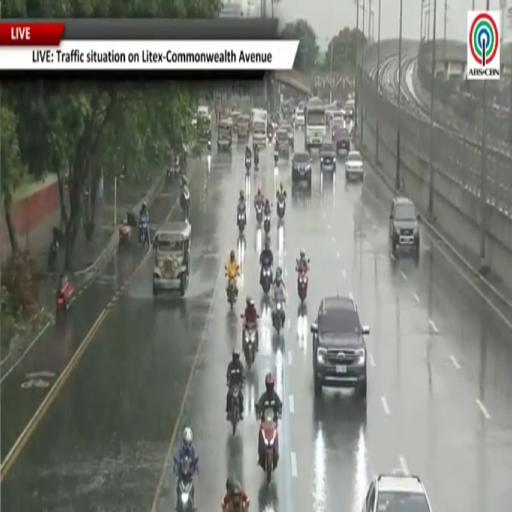car: (310, 296, 369, 399), (363, 472, 432, 511), (389, 197, 420, 258), (292, 152, 311, 186), (345, 151, 363, 181), (320, 142, 336, 172), (333, 127, 350, 155), (331, 119, 345, 140)
jeepney: (153, 221, 191, 296), (197, 106, 211, 141), (217, 120, 233, 150), (276, 127, 289, 158), (238, 115, 250, 141), (230, 110, 240, 133)
motorcycle: (259, 408, 278, 483), (177, 457, 194, 511), (56, 278, 75, 316), (243, 324, 257, 369), (230, 384, 240, 436), (273, 301, 285, 334), (298, 270, 308, 302), (48, 240, 58, 271), (261, 266, 272, 294), (181, 187, 190, 221), (119, 221, 131, 246), (139, 217, 149, 246), (228, 280, 236, 310), (237, 211, 245, 234), (255, 203, 263, 226), (277, 200, 285, 220), (264, 214, 270, 234), (245, 156, 251, 172), (254, 154, 258, 170), (274, 151, 278, 165), (207, 139, 211, 152), (268, 132, 273, 142)
truck: (305, 98, 326, 151), (252, 109, 267, 147)
